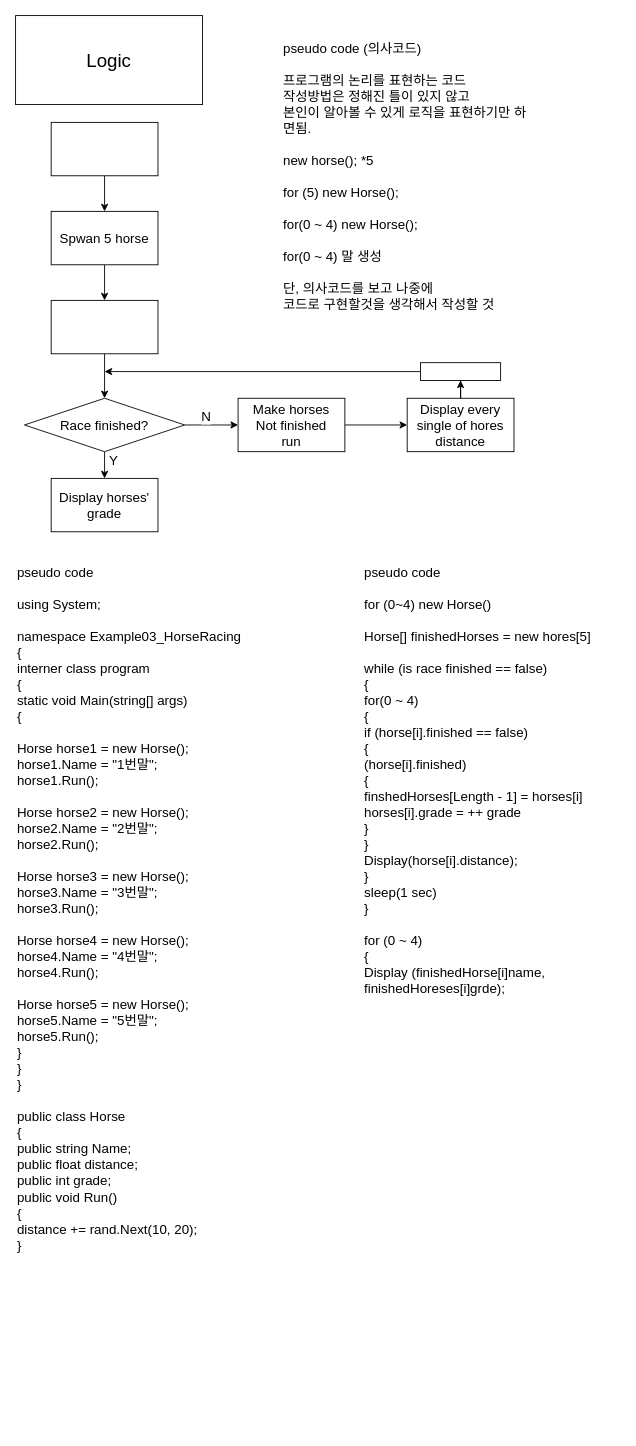
This 636x1446 diagram has some shape labels left out. The centre of each missing label's shape, as x and y in pixels:
sleep 1 s: pixel 460 371
start: pixel 104 148
Start race: pixel 104 326
